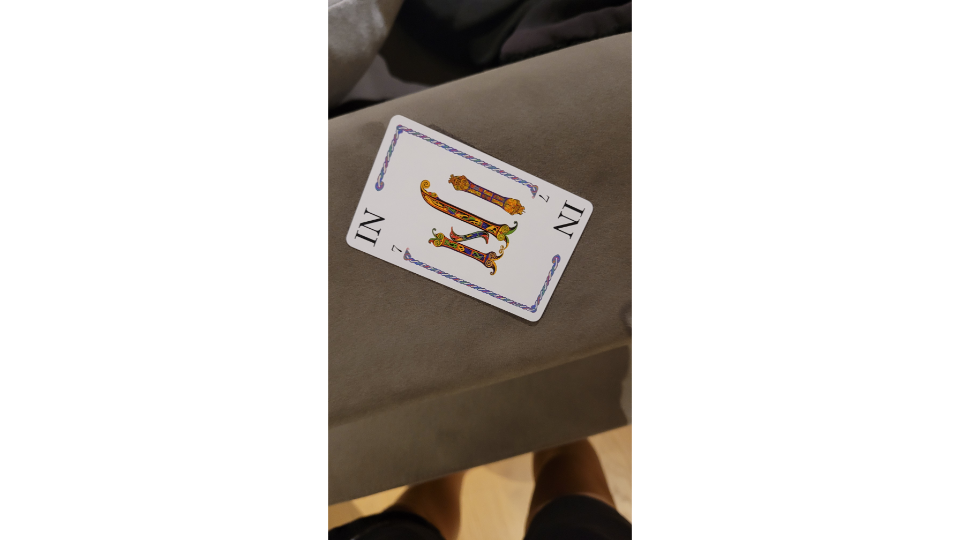IN: (343, 113, 597, 326)
